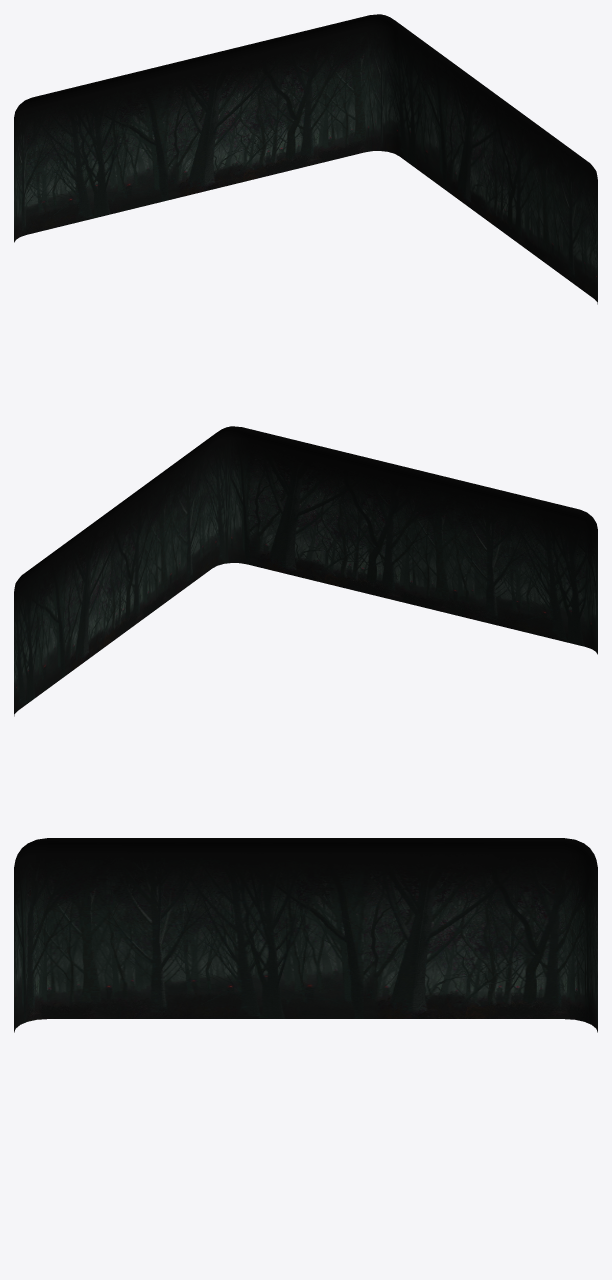
Rendered from Dome.glb.
The picture shows the model from 3 angles, top to bottom: view 1: azimuth 30°, elevation 25°; view 2: azimuth 150°, elevation 25°; view 3: azimuth 270°, elevation 25°; orthographic projection. The views are drawn at different scales.
Parts seen in each view (by area): view 1: Domo; view 2: Domo; view 3: Domo.
Part boxes in pixels (box(x1,y1,x2,y2)): Domo: box(14, 14, 597, 304); Domo: box(14, 426, 597, 716); Domo: box(14, 838, 597, 1032).
Size of what is drawn, in the model's own units: 54.67 by 19.8 by 54.67.
1 material, 1 textured.
